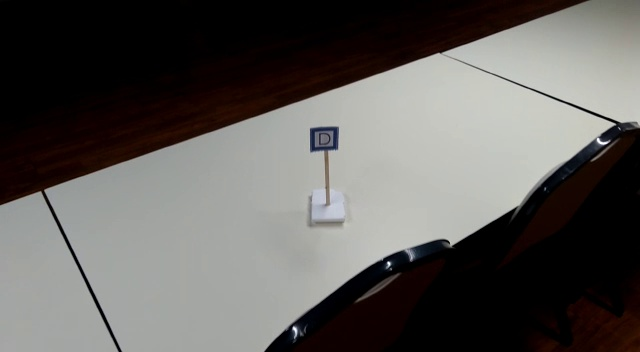durak: (310, 126, 338, 152)
